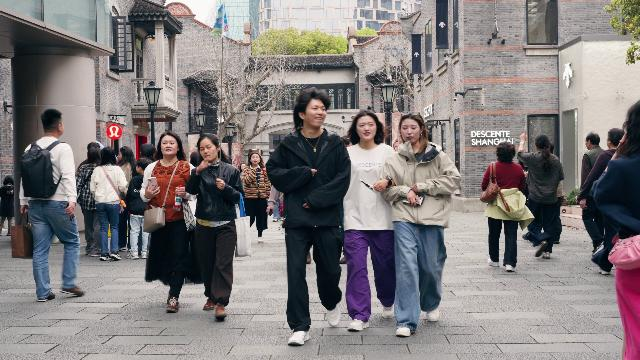person: (266, 87, 352, 346), (376, 111, 462, 338), (19, 108, 86, 302), (342, 110, 396, 332), (184, 133, 242, 320), (148, 125, 193, 308), (480, 140, 536, 272), (576, 128, 625, 275), (516, 132, 565, 259), (89, 146, 128, 261), (580, 131, 608, 252), (76, 147, 102, 257), (242, 152, 272, 244), (116, 146, 136, 251), (0, 175, 15, 236), (189, 151, 200, 168), (341, 135, 353, 147), (240, 163, 247, 173)
